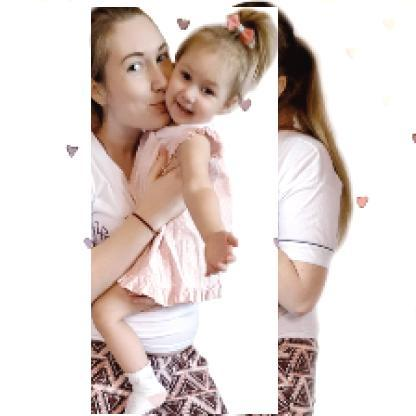child: (92, 8, 280, 416)
